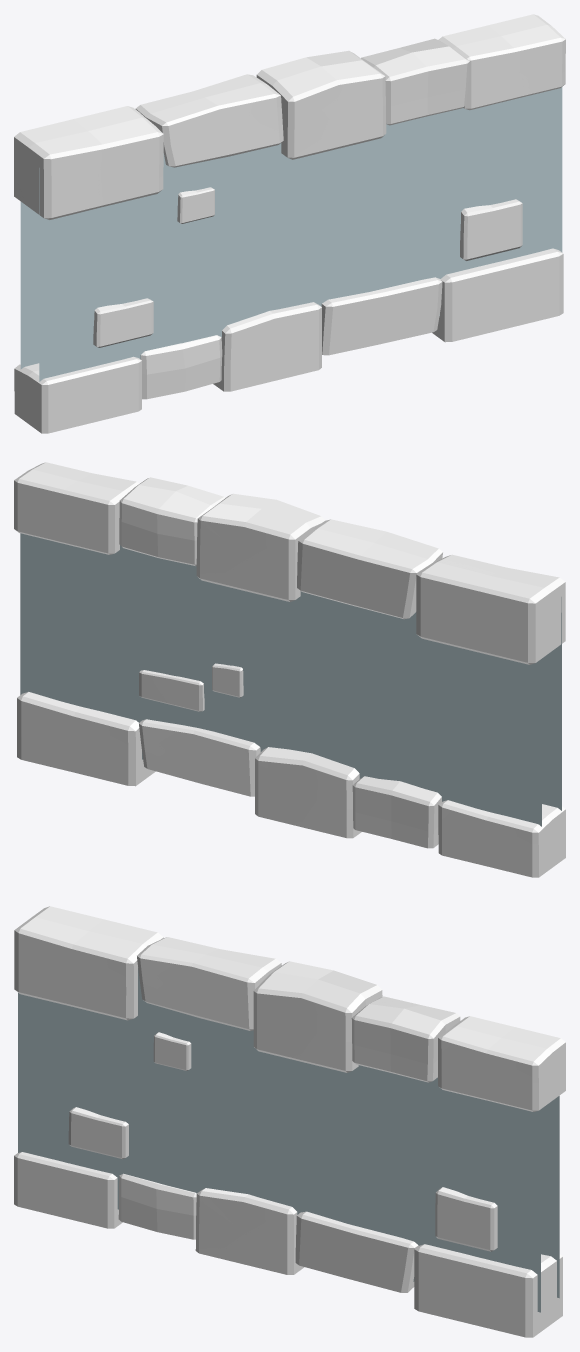
File: wall3333.glb
3 views of the same model, one above another, from view 1: azimuth 30°, elevation 25°; view 2: azimuth 150°, elevation 25°; view 3: azimuth 330°, elevation 25° (orthographic).
Parts seen in each view (by area): view 1: wall3; view 2: wall3; view 3: wall3.
Part boxes in pixels (<box>): wall3: <box>14,14,565,433</box>; wall3: <box>14,462,565,877</box>; wall3: <box>14,906,565,1337</box>.
Bounding box in the file's own units: 0.1003 × 0.0534 × 0.0129.
Materials: 1 (1 with a texture image).
